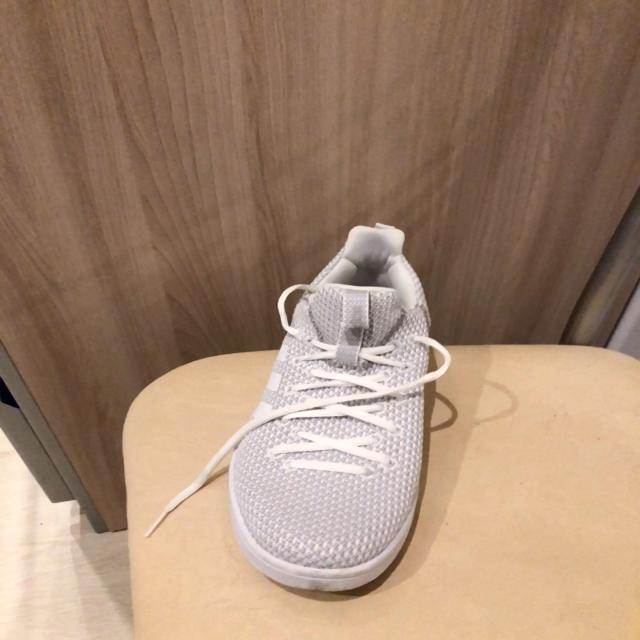shoe: (220, 225, 453, 601)
